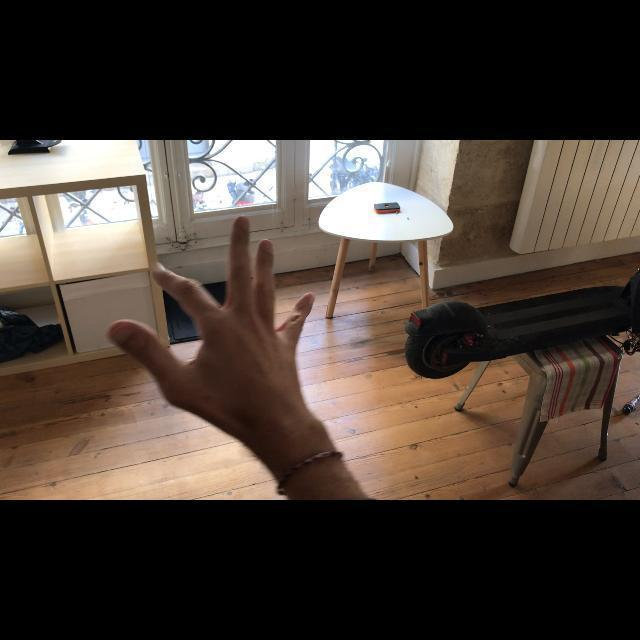bare_hand: (105, 214, 316, 417)
